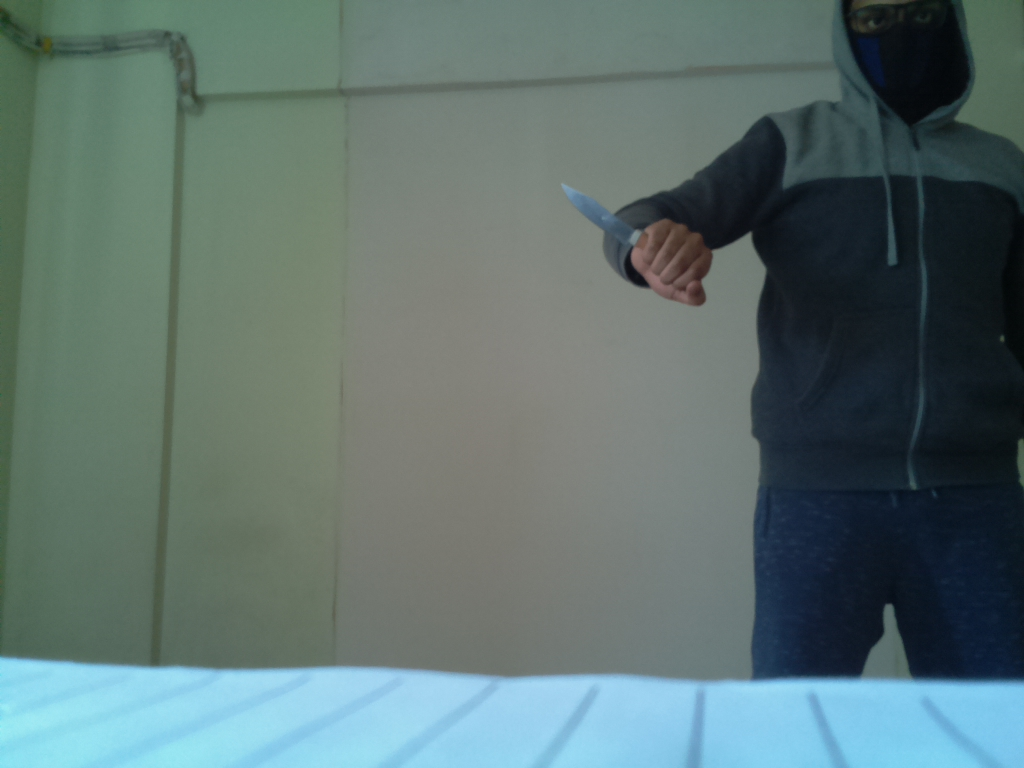knife: (552, 175, 675, 266)
